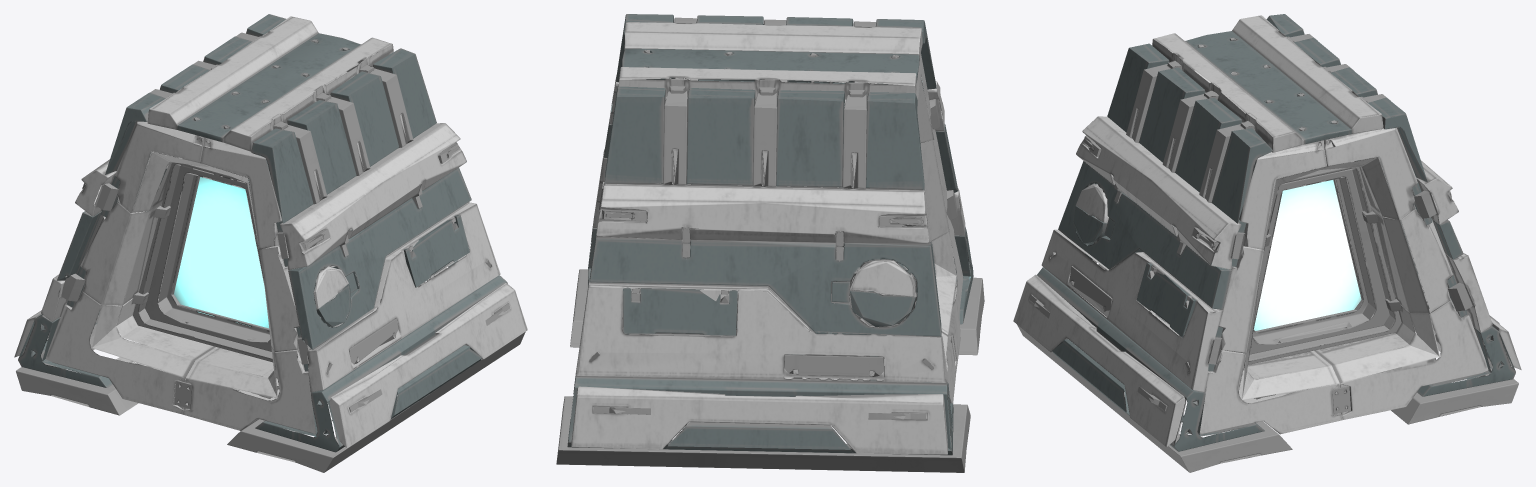
The model's file is Barrel07fbx.fbx.
3 views of the same model, side by side, from view 1: azimuth 30°, elevation 25°; view 2: azimuth 150°, elevation 25°; view 3: azimuth 270°, elevation 25° (orthographic). The views are drawn at different scales.
Visible parts, largest first — view 1: Sci-Fi Container.002; view 2: Sci-Fi Container.002; view 3: Sci-Fi Container.002.
Boxes of the visible parts, x1,y1,x2,y2 form: Sci-Fi Container.002: (14, 14, 527, 472); Sci-Fi Container.002: (556, 14, 984, 472); Sci-Fi Container.002: (1013, 14, 1521, 472).
Bounding box in the file's own units: 28.97 × 19.11 × 29.85.
Materials: 1 (1 with a texture image).
